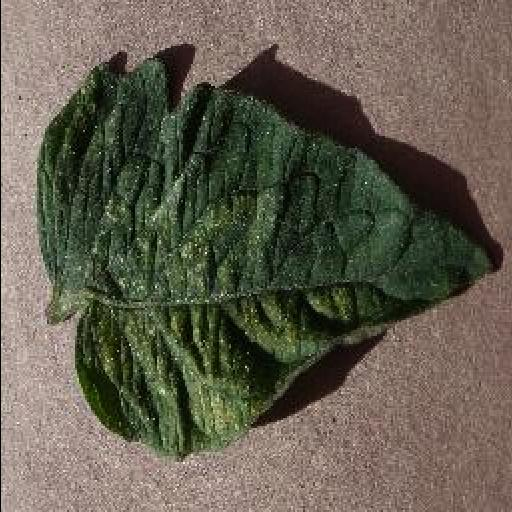disease_tomato: (34, 58, 492, 464)
